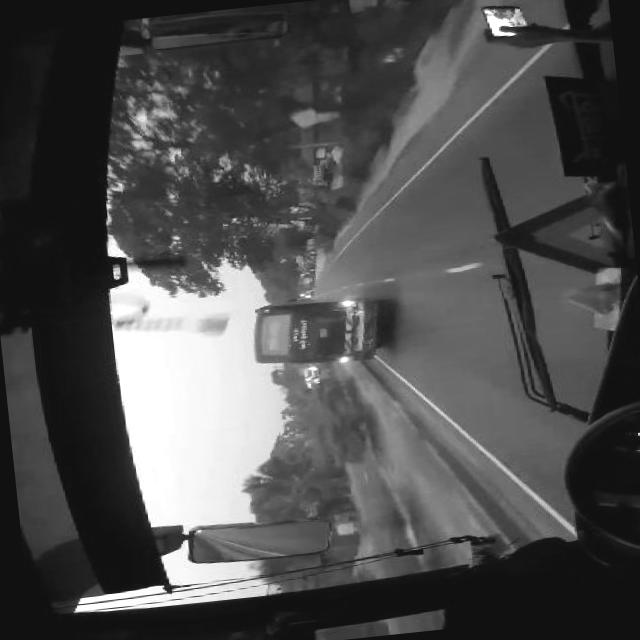bus: (249, 291, 393, 368)
